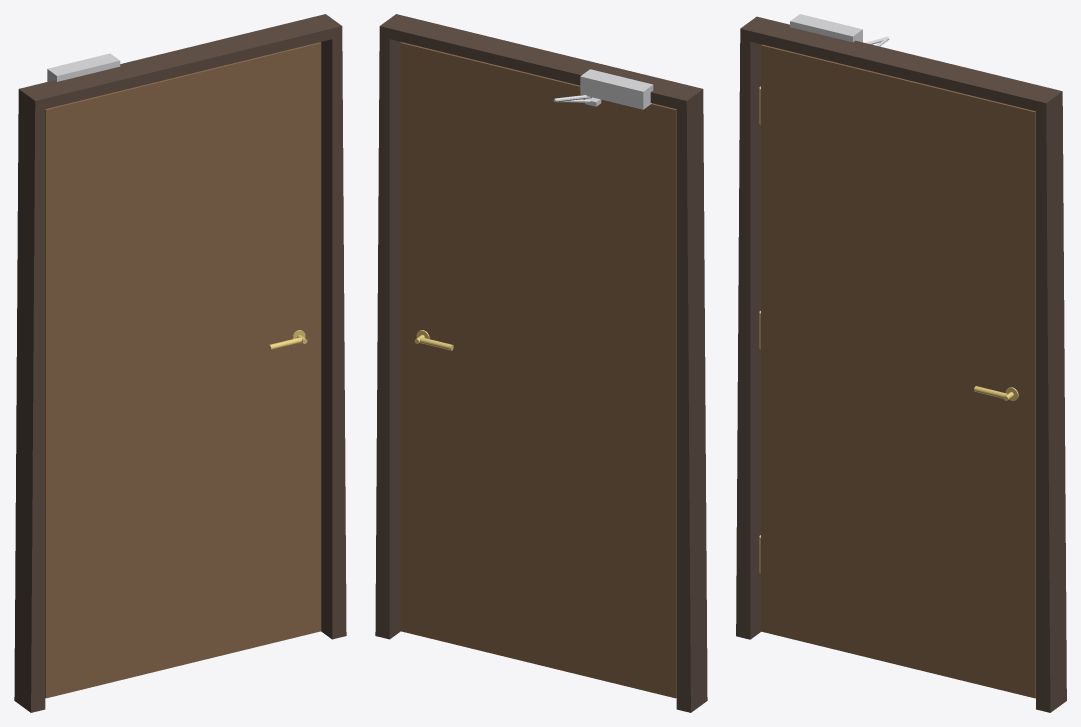
Rendered from door.glb.
3 renders of one model, left to right at view 1: azimuth 30°, elevation 25°; view 2: azimuth 150°, elevation 25°; view 3: azimuth 330°, elevation 25°, orthographic.
Parts seen in each view (by area): view 1: Door_Panel, Door_Frame; view 2: Door_Panel, Door_Frame; view 3: Door_Panel, Door_Frame.
Part boxes in pixels (bbox=[...]): Door_Panel: bbox=[45, 42, 321, 698]; Door_Frame: bbox=[14, 14, 346, 712]; Door_Panel: bbox=[400, 42, 676, 698]; Door_Frame: bbox=[375, 14, 707, 712]; Door_Panel: bbox=[759, 38, 1035, 698]; Door_Frame: bbox=[736, 14, 1066, 712].
Bounding box in the file's own units: 1.1 × 2.06 × 0.2435.
